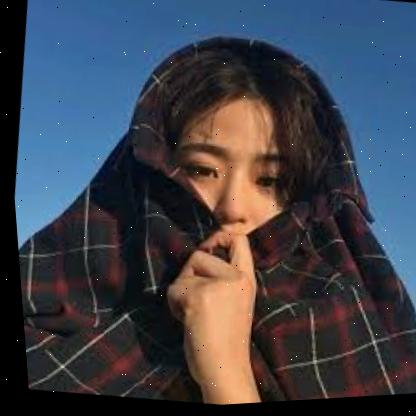person: (145, 39, 349, 268)
